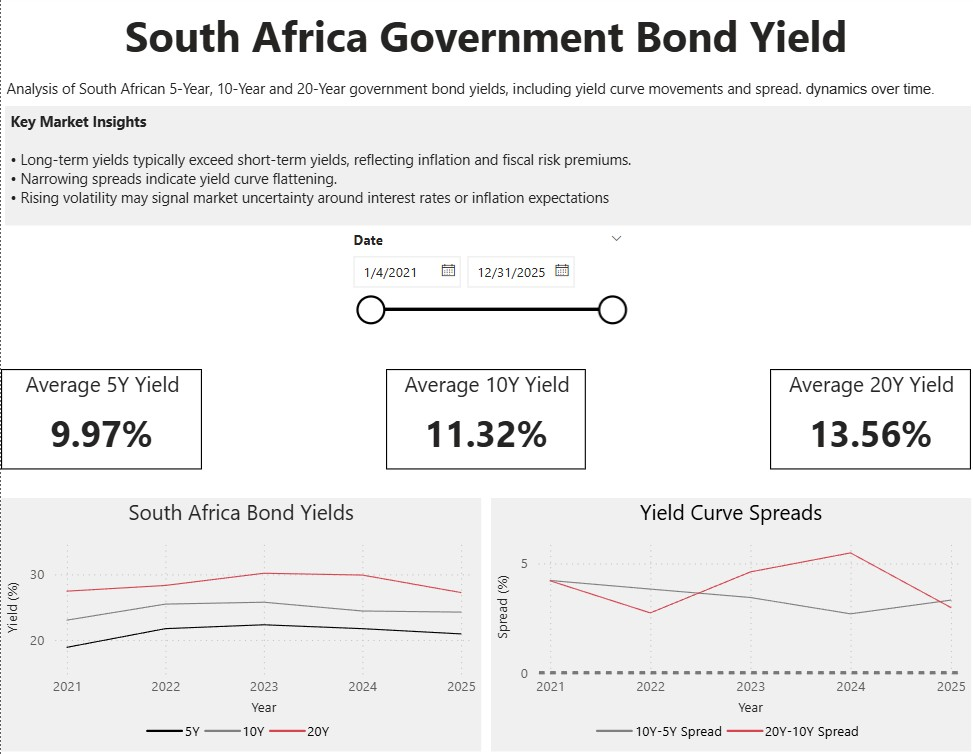

Layout of this report page (visuals, bound fields, positions):
{"tool":"powerbi","page":{"name":"Page 1","canvas":[1280,720],"ordinal":0},"visuals":[{"type":"lineChart","title":"South Africa Bond Yields","fields":{"Category":["sa_yield_curve_dataset.Date.Variation.Date Hierarchy.Year","sa_yield_curve_dataset.Date.Variation.Date Hierarchy.Quarter","sa_yield_curve_dataset.Date.Variation.Date Hierarchy.Month","sa_yield_curve_dataset.Date.Variation.Date Hierarchy.Day"],"Y":["Sum(sa_yield_curve_dataset.5Y)","Sum(sa_yield_curve_dataset.10Y)","Sum(sa_yield_curve_dataset.20Y)"]},"box":[0,450.4,430,227.5],"z":0},{"type":"lineChart","title":"Yield Curve Spreads","fields":{"Category":["sa_yield_curve_dataset.Date.Variation.Date Hierarchy.Year","sa_yield_curve_dataset.Date.Variation.Date Hierarchy.Quarter","sa_yield_curve_dataset.Date.Variation.Date Hierarchy.Month","sa_yield_curve_dataset.Date.Variation.Date Hierarchy.Day"],"Y":["Sum(sa_yield_curve_dataset.10Y_5Y_Spread)","Sum(sa_yield_curve_dataset.20Y_10Y_Spread)"]},"box":[438.8,450.4,429.9,227.5],"z":1000},{"type":"slicer","fields":{"Values":["sa_yield_curve_dataset.Date"]},"box":[302.7,206,266,100.3],"z":2000},{"type":"card","title":"Average 5Y Yield","fields":{"Values":["Max(sa_yield_curve_dataset.5Y)"]},"box":[0,335.4,179.9,90.4],"z":3000},{"type":"card","title":"Average 10Y Yield","fields":{"Values":["Max(sa_yield_curve_dataset.10Y)"]},"box":[344.8,334.9,179.1,90.4],"z":4000},{"type":"card","title":"Average 20Y Yield","fields":{"Values":["Max(sa_yield_curve_dataset.20Y)"]},"box":[688.7,334.9,180,90.4],"z":5000},{"type":"textbox","box":[0,6.3,868.7,63.6],"z":6000},{"type":"textbox","box":[0,69.9,868.7,29.6],"z":7000},{"type":"textbox","box":[3.6,99.4,865.1,106.6],"z":8000}]}

Visuals, with their boxes on the page's 1280x720 design canvas (x1, y1, x2, y2). These are canvas units, not pixel positions in the 973x754 screenshot, which may show the page scaled, cropped or inside an application window:
"South Africa Bond Yields" lineChart: select_region(0, 450, 430, 678)
"Yield Curve Spreads" lineChart: select_region(439, 450, 869, 678)
slicer - sa_yield_curve_dataset.Date: select_region(303, 206, 569, 306)
"Average 5Y Yield" card: select_region(0, 335, 180, 426)
"Average 10Y Yield" card: select_region(345, 335, 524, 425)
"Average 20Y Yield" card: select_region(689, 335, 869, 425)
textbox: select_region(0, 6, 869, 70)
textbox: select_region(0, 70, 869, 100)
textbox: select_region(4, 99, 869, 206)
